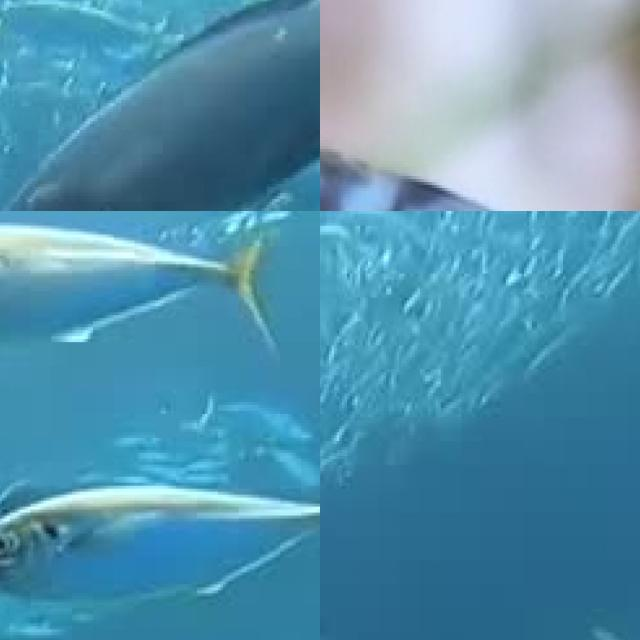fish: (0, 0, 320, 211), (320, 71, 640, 211)
